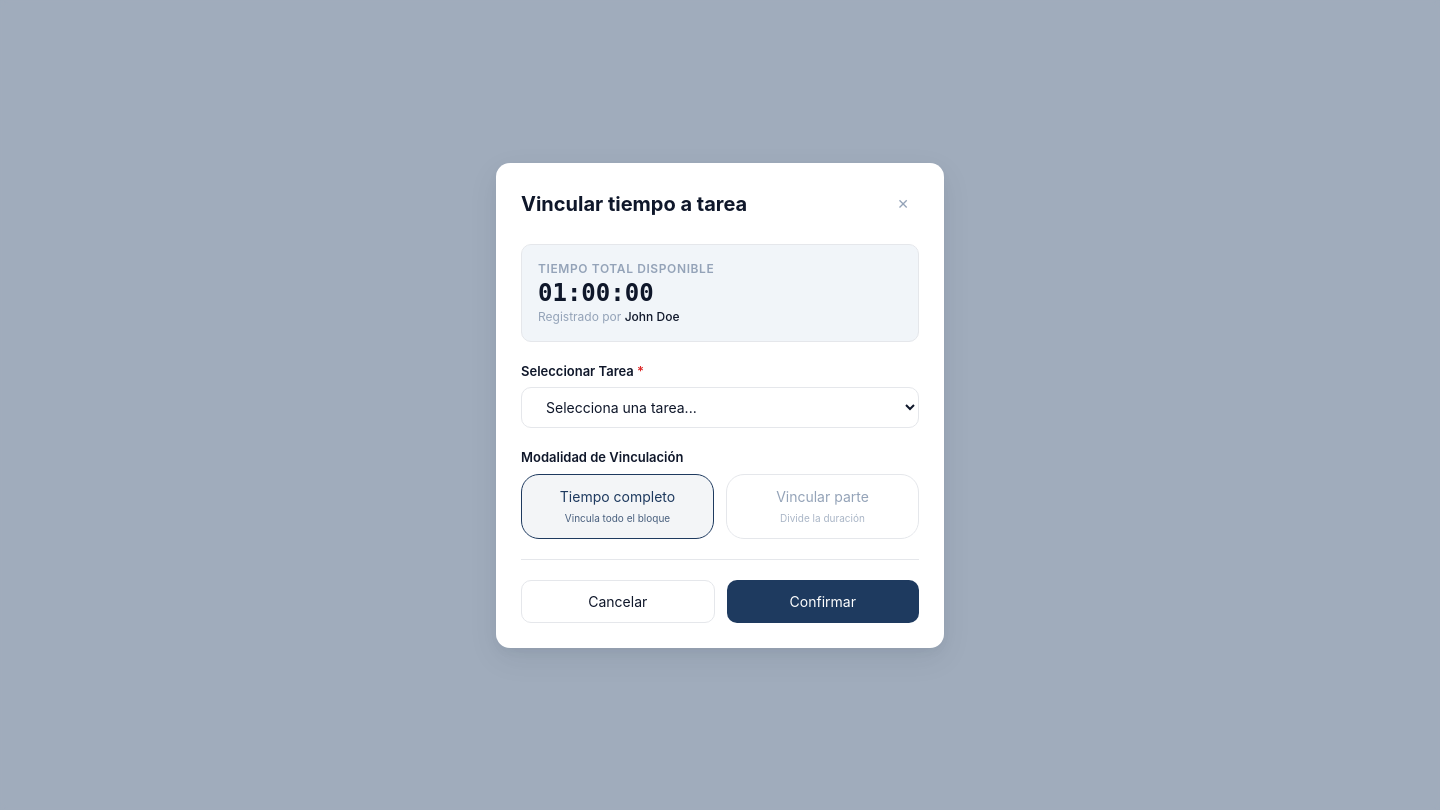
Test: LinkTimeModal Component › User Interactions & Validations › should show error when submitting without selecting a task
This screenshot has width=1440, height=810.
Click the button "Confirmar" at (823, 601), box [727,580,919,622]
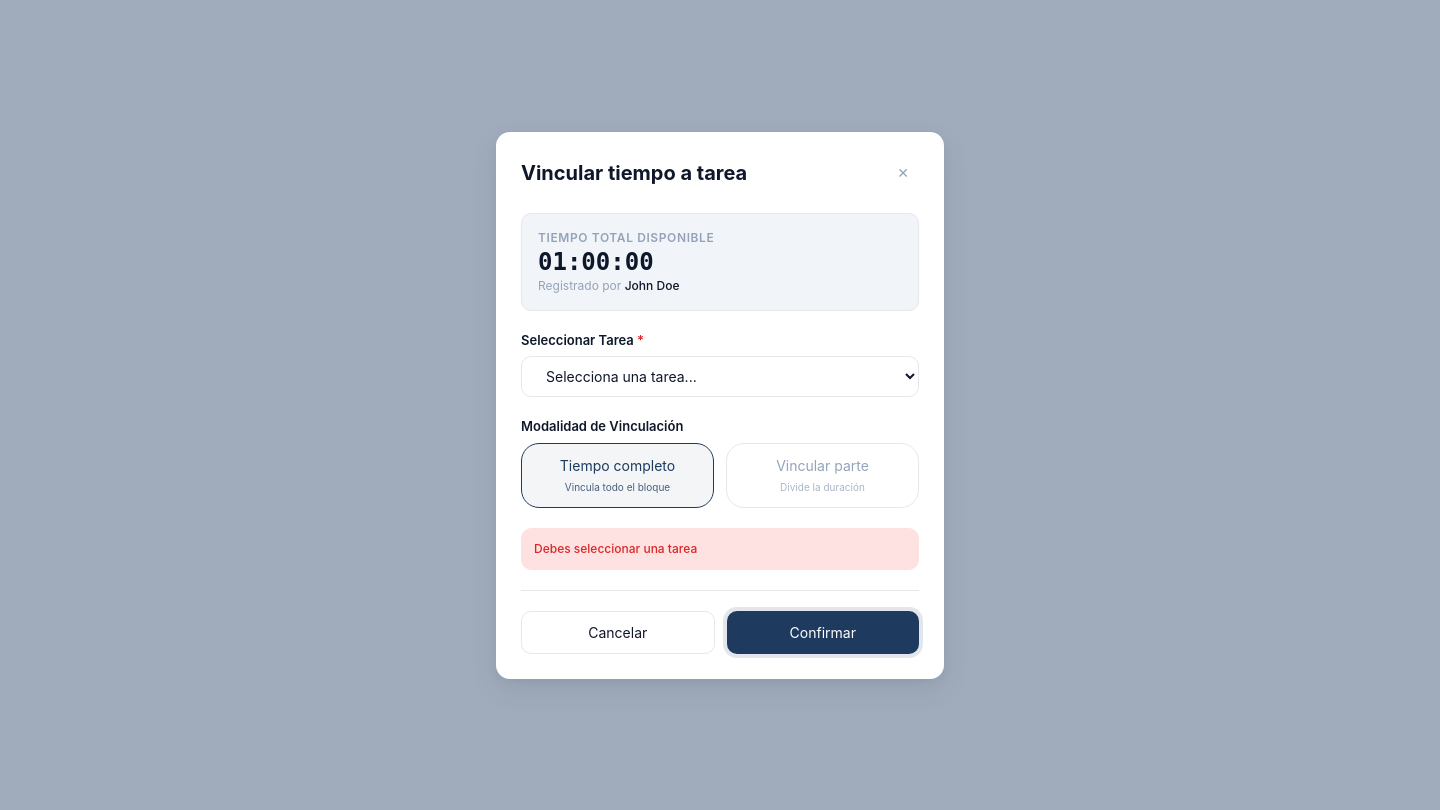
Expected: the text "Debes seleccionar una tarea" is shown, [521,528,919,570]
